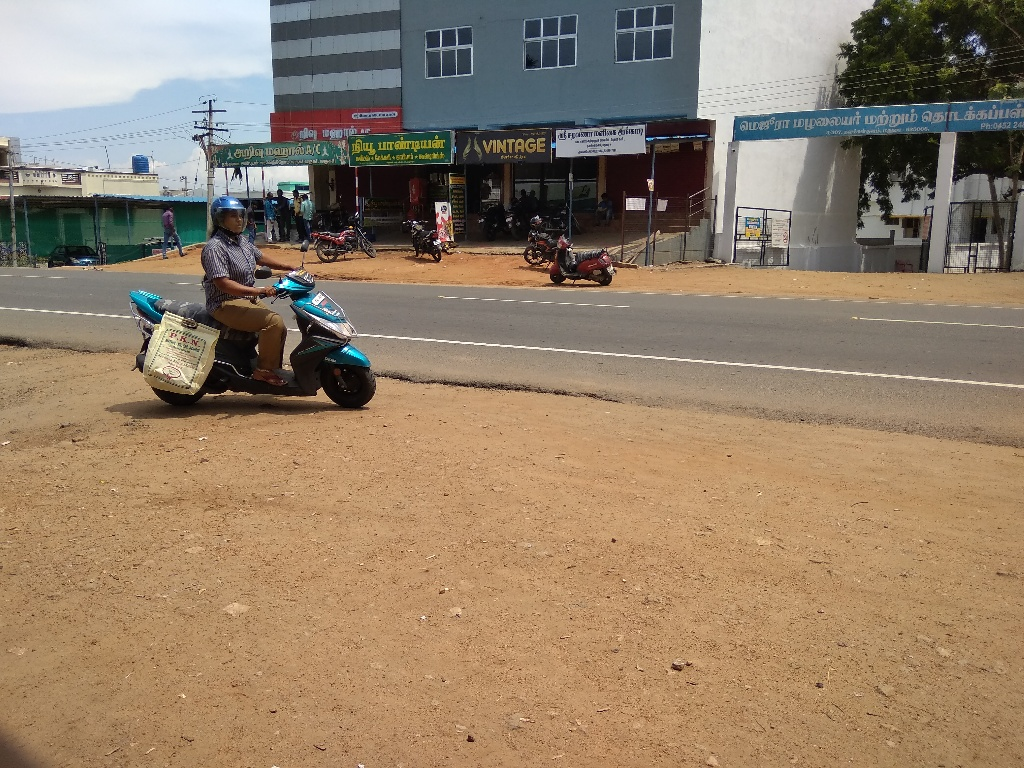biker: (108, 153, 396, 419)
helmet: (198, 188, 264, 254)
